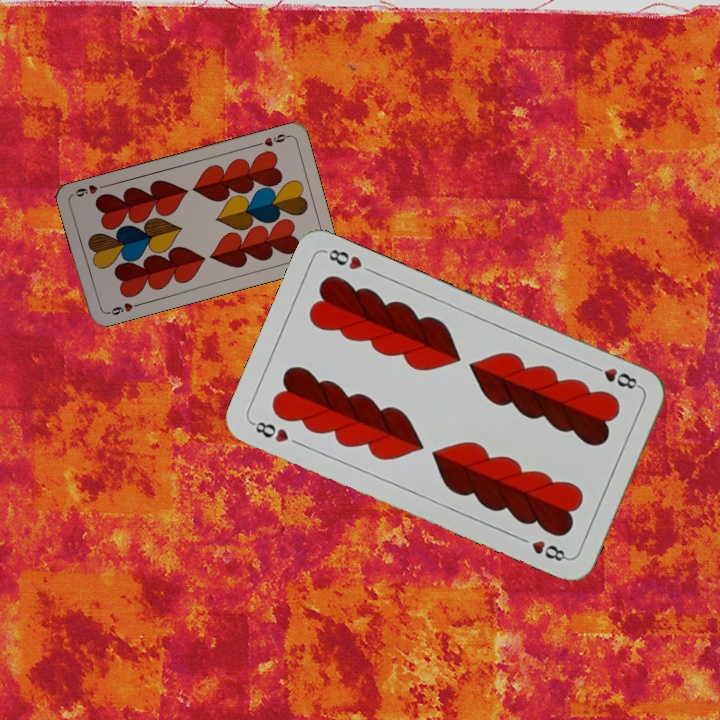H8: (587, 361, 643, 392), (247, 417, 292, 445)
H9: (252, 130, 292, 149), (102, 299, 142, 318)
